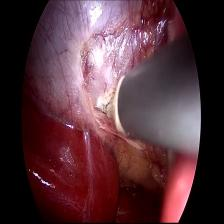Hook: (92, 76, 129, 134)
